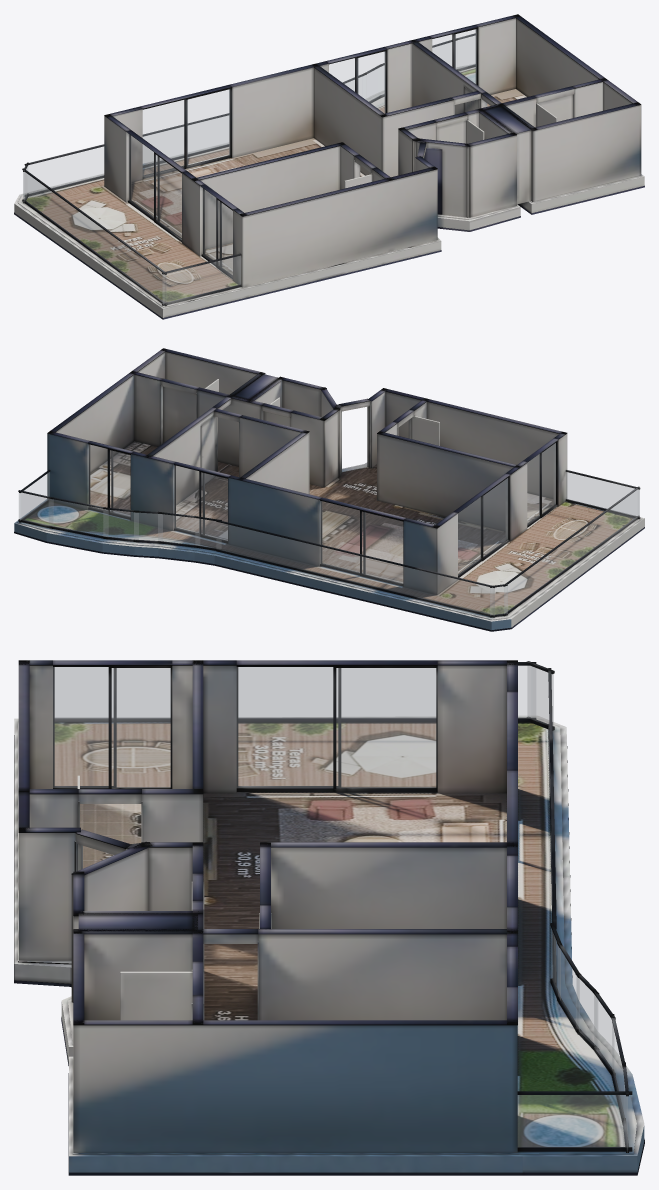
The picture shows the model from 3 angles, top to bottom: view 1: azimuth 30°, elevation 25°; view 2: azimuth 150°, elevation 25°; view 3: azimuth 270°, elevation 25°; orthographic projection. The views are drawn at different scales.
Visible parts, largest first — view 1: plan, glass0_m, railg9_m, railg1_m, glass1_m, railg10_m, glass2_m, glass4_m, glass3_m, railg7_m; view 2: plan, railg1_m, glass0_m, railg9_m, glass1_m, glass2_m, glass3_m, railg10_m, glass4_m, railg6_m, railg3_m, railg5_m (+5 smaller); view 3: plan, glass1_m, railg9_m, glass4_m, railg8_m, railg0_m, railg4_m, railg3_m, railg5_m.
Part boxes in pixels (x1,y1,x2,y2): plan: (14, 14, 644, 319); glass0_m: (143, 89, 229, 176); railg9_m: (23, 172, 166, 303); railg1_m: (26, 116, 228, 193); glass1_m: (129, 134, 181, 238); railg10_m: (162, 256, 240, 303); glass2_m: (329, 52, 385, 113); glass4_m: (203, 188, 232, 275); glass3_m: (432, 29, 476, 83); railg7_m: (458, 36, 474, 68); plan: (14, 348, 644, 631); railg1_m: (216, 522, 494, 615); glass0_m: (320, 501, 402, 583); railg9_m: (504, 490, 638, 613); glass1_m: (458, 478, 507, 575); glass2_m: (174, 465, 227, 540); glass3_m: (89, 444, 130, 516); railg10_m: (566, 472, 639, 516); glass4_m: (527, 443, 555, 524); railg6_m: (49, 499, 108, 536); railg3_m: (158, 514, 199, 545); railg5_m: (103, 509, 138, 539); plan: (14, 660, 644, 1175); glass1_m: (237, 667, 435, 787); railg9_m: (55, 666, 535, 718); glass4_m: (53, 667, 170, 787); railg8_m: (518, 1095, 631, 1147); railg0_m: (528, 666, 553, 726); railg4_m: (576, 976, 597, 1048); railg3_m: (558, 947, 579, 1030); railg5_m: (594, 995, 613, 1072).
Size of the model in its own units: 16.66 by 2.62 by 10.07.
Materials: 2 (1 with a texture image).
